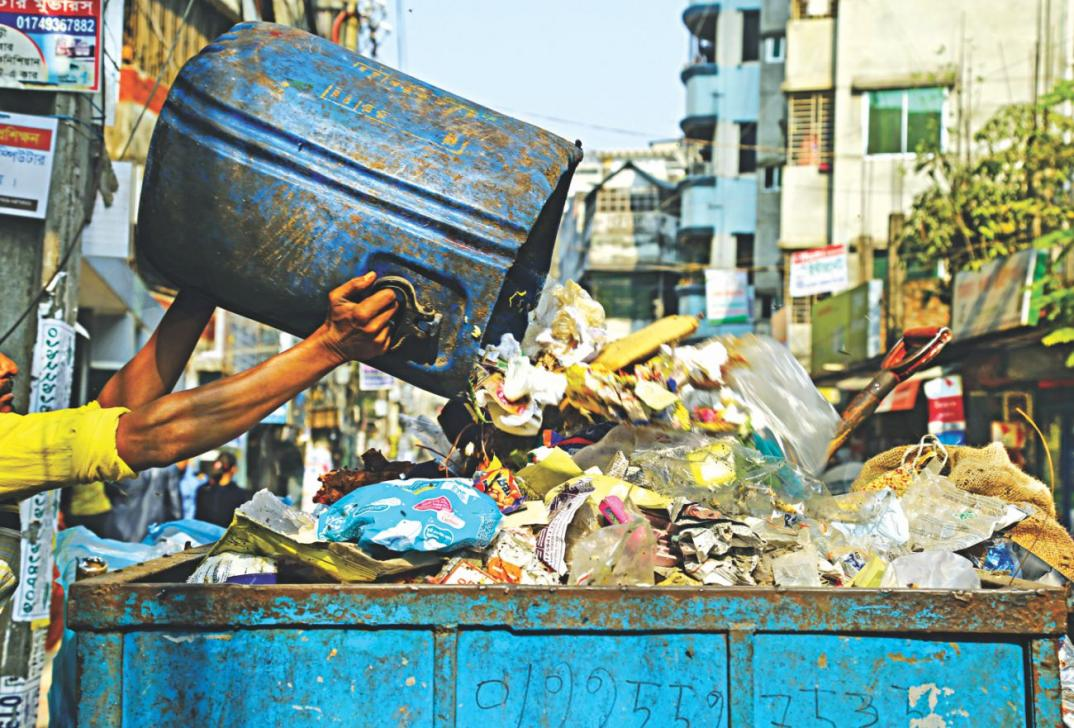garbagevan: (62, 406, 1074, 727)
